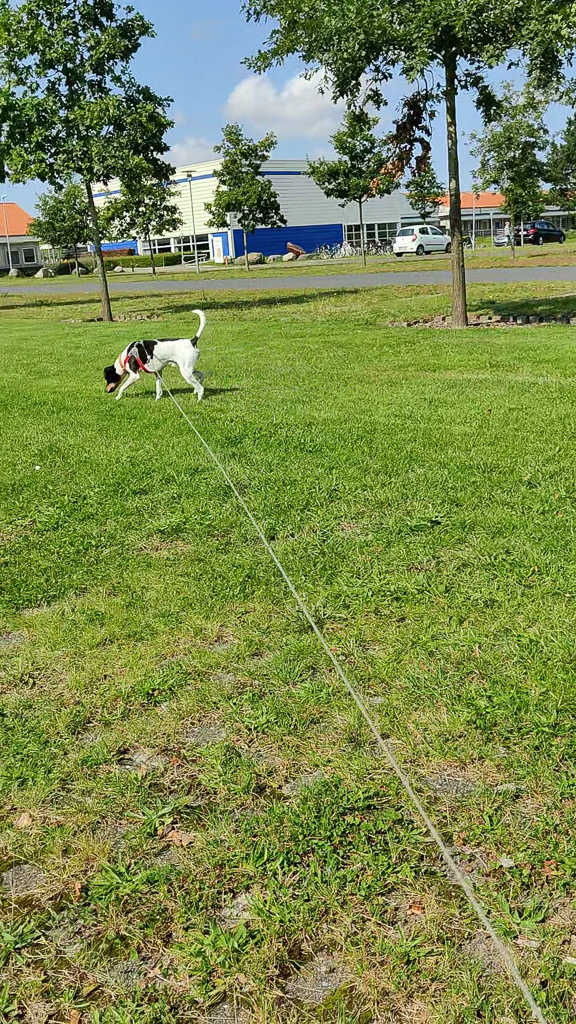Dog: (94, 302, 211, 407)
